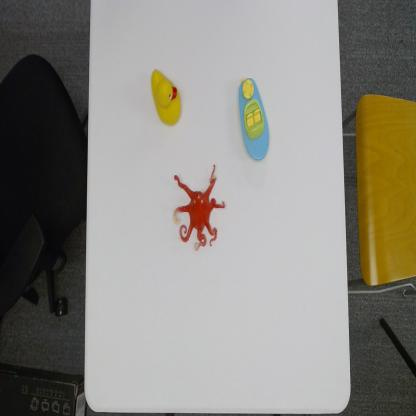Boat: (237, 74, 271, 164)
Duck: (150, 67, 184, 129)
Octopus: (173, 163, 227, 250)
